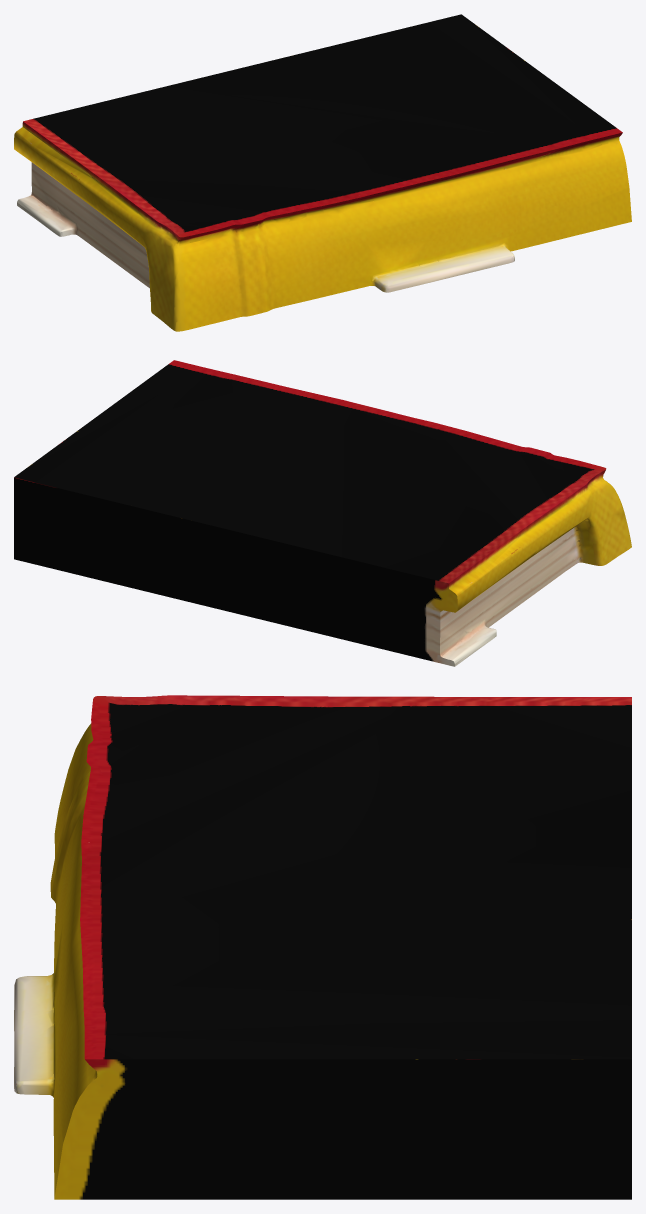
Rendered from 9-roof-front-left.fbx.
3 views of the same model, one above another, from view 1: azimuth 30°, elevation 25°; view 2: azimuth 150°, elevation 25°; view 3: azimuth 270°, elevation 25° (orthographic). The views are drawn at different scales.
Visible parts, largest first — view 1: roof-front-left; view 2: roof-front-left; view 3: roof-front-left.
Part boxes in pixels (<box>): roof-front-left: <box>14,14,631,331</box>; roof-front-left: <box>14,360,631,666</box>; roof-front-left: <box>14,695,631,1199</box>.
Bounding box in the file's own units: 4351 × 756 × 3021.
Materials: 1 (1 with a texture image).
